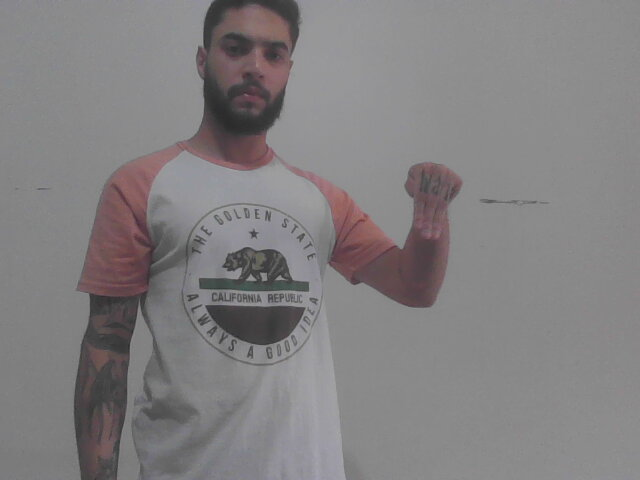m: (398, 157, 464, 246)
